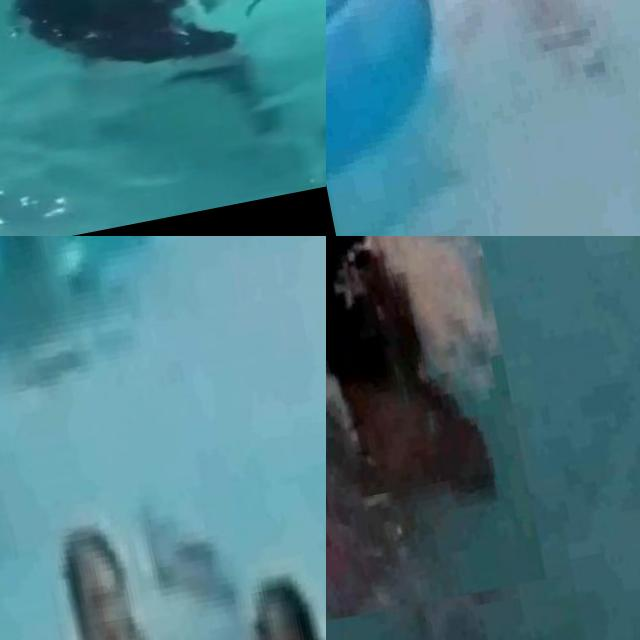drowning: (326, 236, 548, 631), (101, 448, 281, 622), (437, 0, 640, 85)
swimming: (0, 0, 317, 67), (32, 530, 197, 640)
